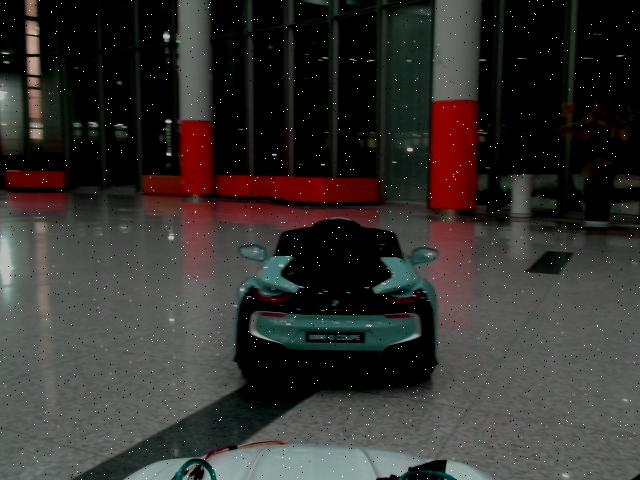car: (235, 219, 440, 377)
